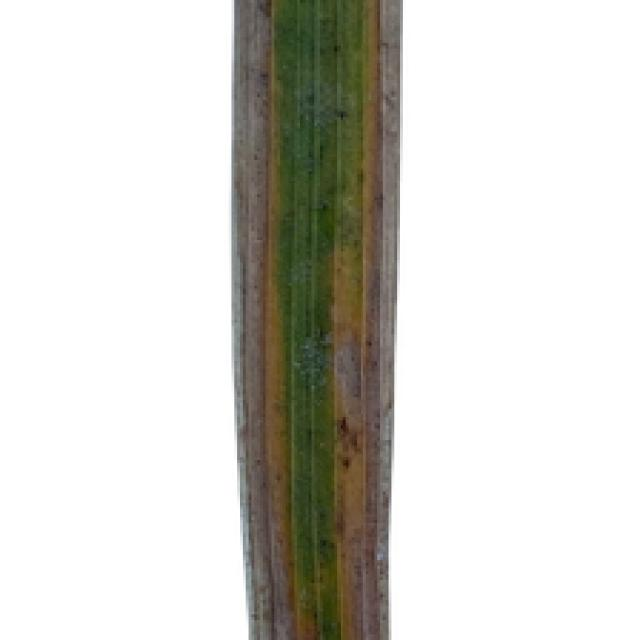Rice___Bacterial_Leaf_Blight: (229, 0, 405, 637)
